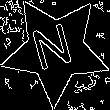N_S: (30, 20, 81, 80)
